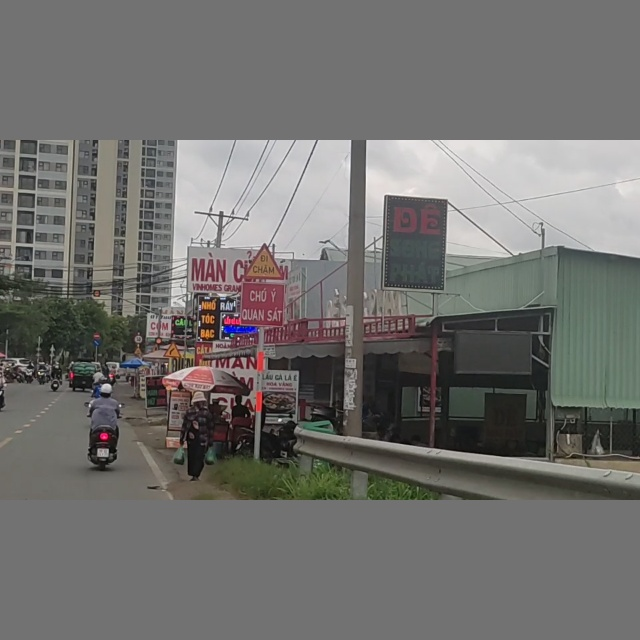W.201b: (163, 341, 181, 358)
W.245a: (244, 242, 283, 281)
